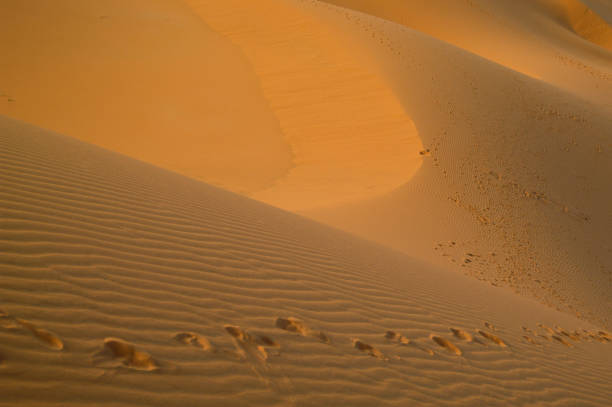animal_footprint: (224, 325, 279, 363), (94, 338, 159, 370), (15, 318, 63, 350), (275, 317, 330, 342), (174, 332, 213, 350), (352, 339, 387, 359), (430, 334, 461, 355), (449, 327, 483, 344), (477, 330, 507, 347), (385, 330, 410, 344), (552, 335, 572, 346)
